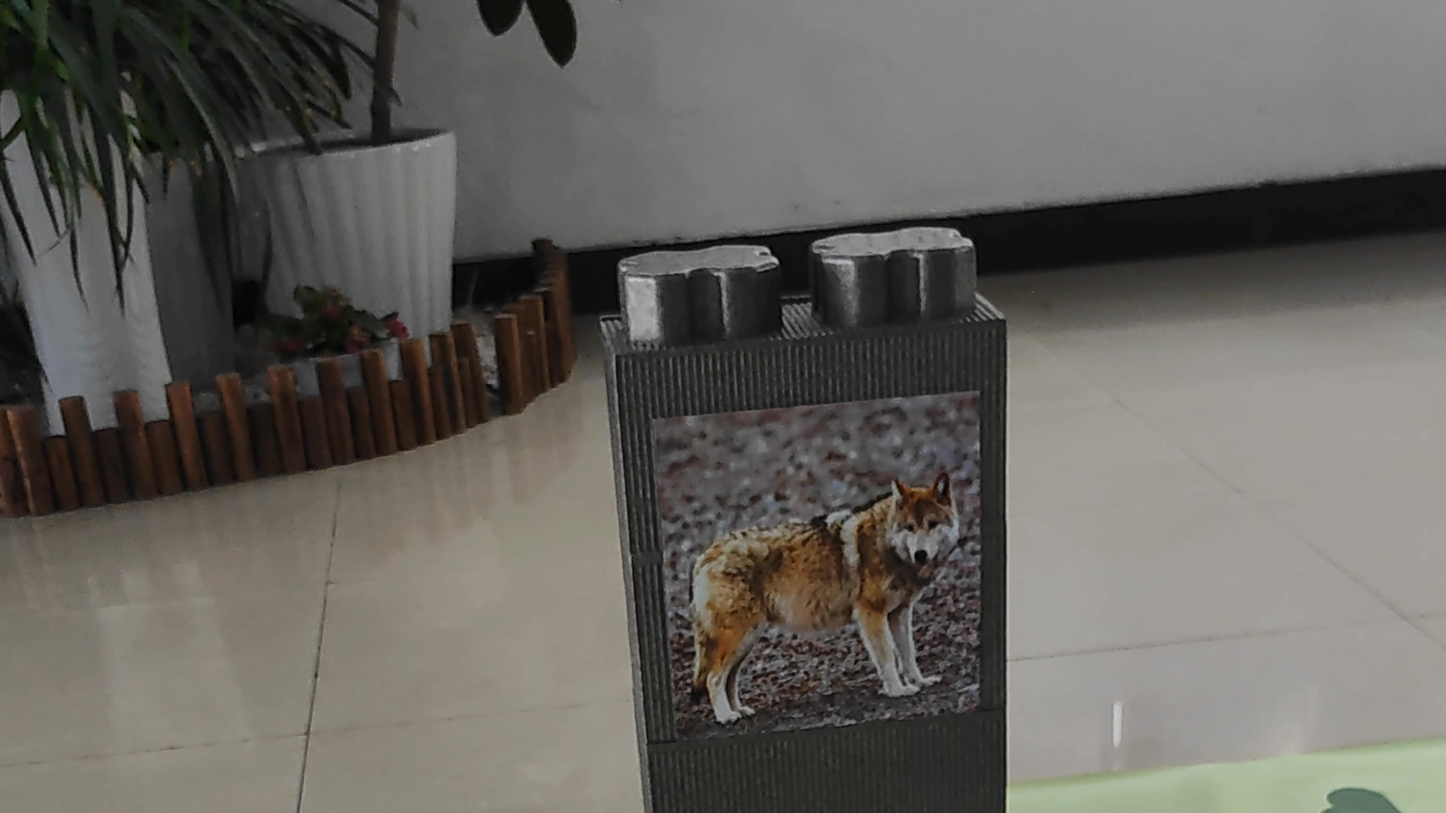wolf: (643, 422, 959, 708)
